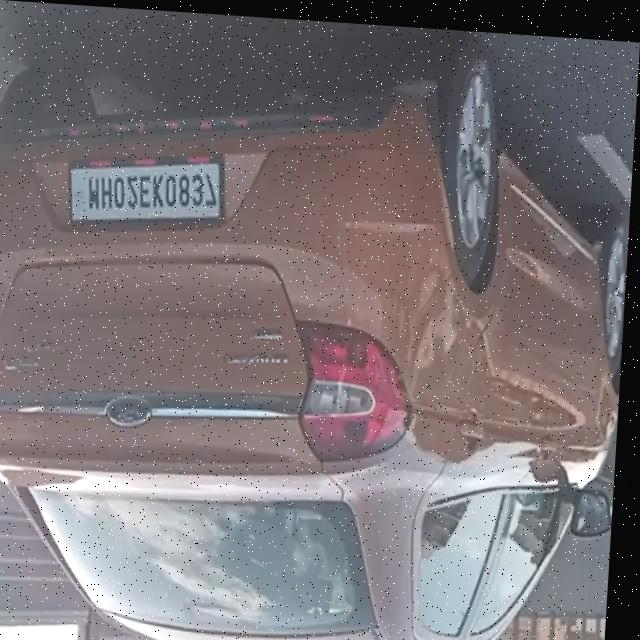plate: (65, 142, 230, 233)
